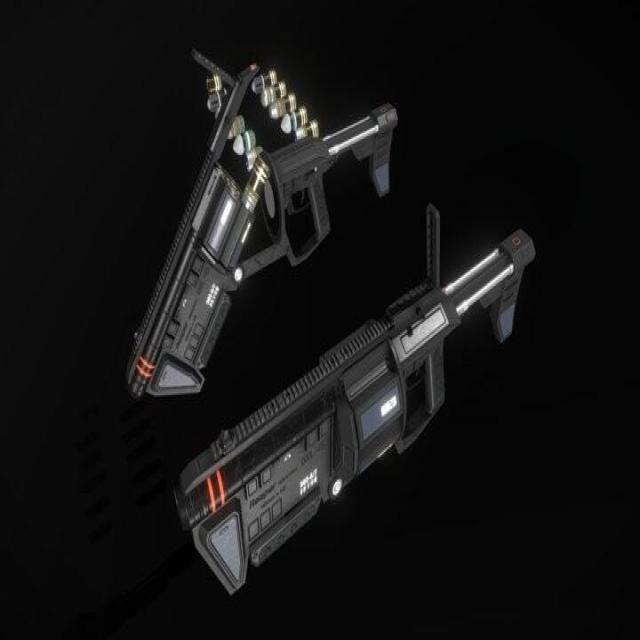weapon: (174, 201, 540, 599), (96, 46, 398, 406)
